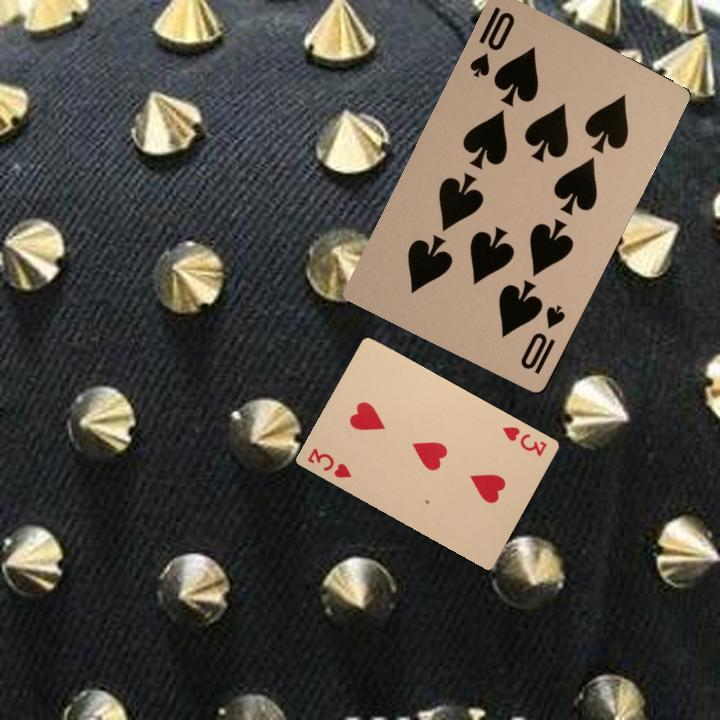10s: (465, 2, 518, 80), (516, 300, 568, 377)
3h: (303, 444, 354, 481), (499, 422, 549, 459)
